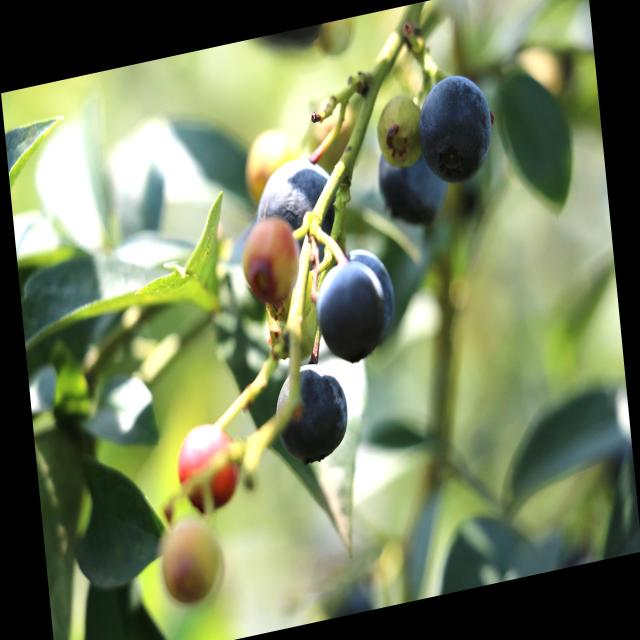blueberry: (315, 242, 397, 366), (418, 67, 496, 182), (274, 356, 351, 466), (253, 155, 338, 251), (375, 141, 446, 228)
blueberry-halfripe: (174, 421, 241, 516)
blueberry-unripe: (155, 516, 225, 613)
